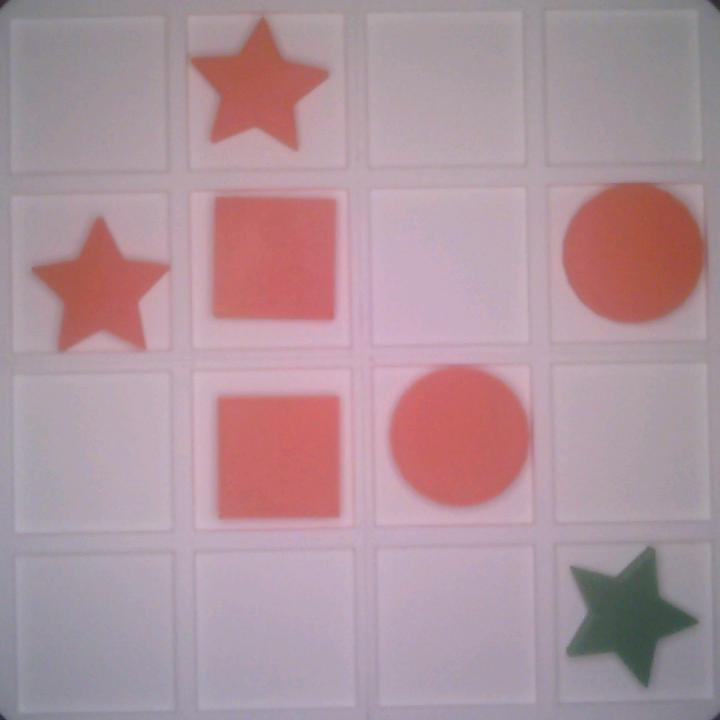Green star: (561, 540, 694, 690)
Orange circle: (566, 186, 706, 329), (388, 363, 528, 505)
Orange square: (213, 390, 344, 532), (207, 194, 343, 329)
Orange star: (188, 14, 328, 156), (33, 215, 170, 356)
